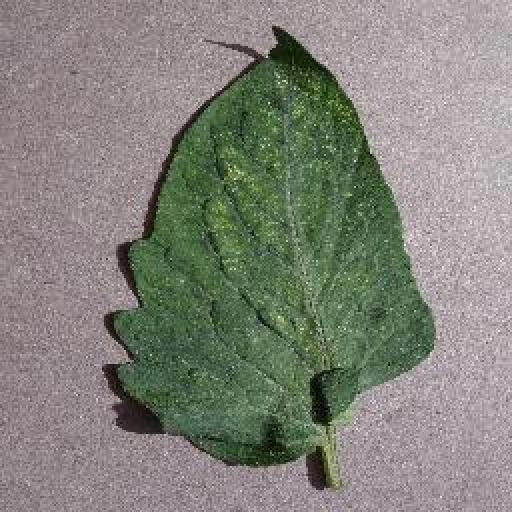disease_tomato: (108, 24, 438, 466)
